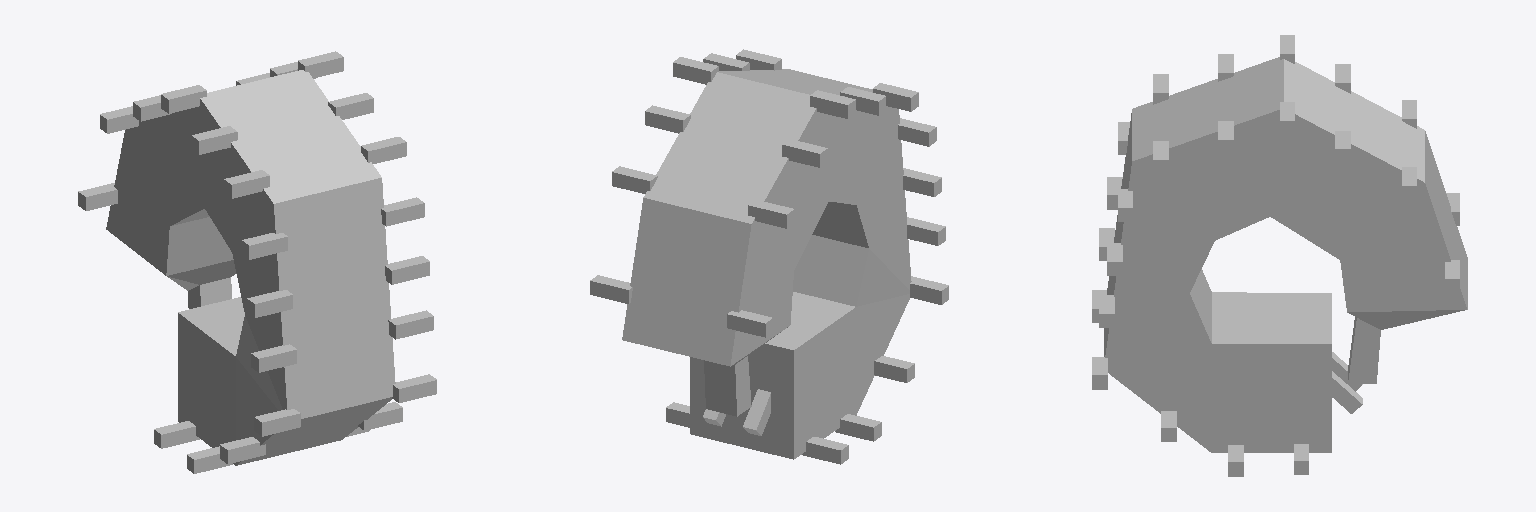
The model's file is lilipod.obj.
3 views of the same model, side by side, from view 1: azimuth 30°, elevation 25°; view 2: azimuth 150°, elevation 25°; view 3: azimuth 270°, elevation 25° (orthographic).
Visible parts, largest first — view 1: Cube; view 2: Cube; view 3: Cube.
Part boxes in pixels (left/top/right/bottom): Cube: left=78, top=51, right=436, bottom=473; Cube: left=590, top=49, right=948, bottom=464; Cube: left=1092, top=35, right=1467, bottom=476.
Size of the model in its own units: 0.2853 by 0.5526 by 0.5284.